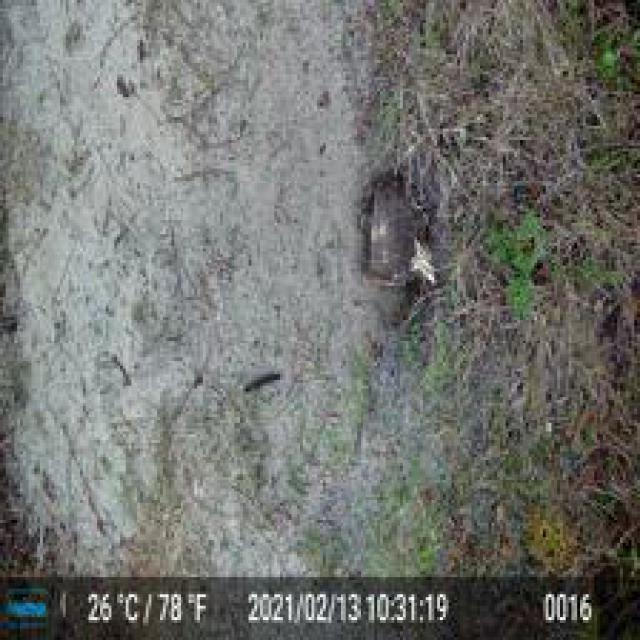tortoise: (354, 175, 423, 292)
